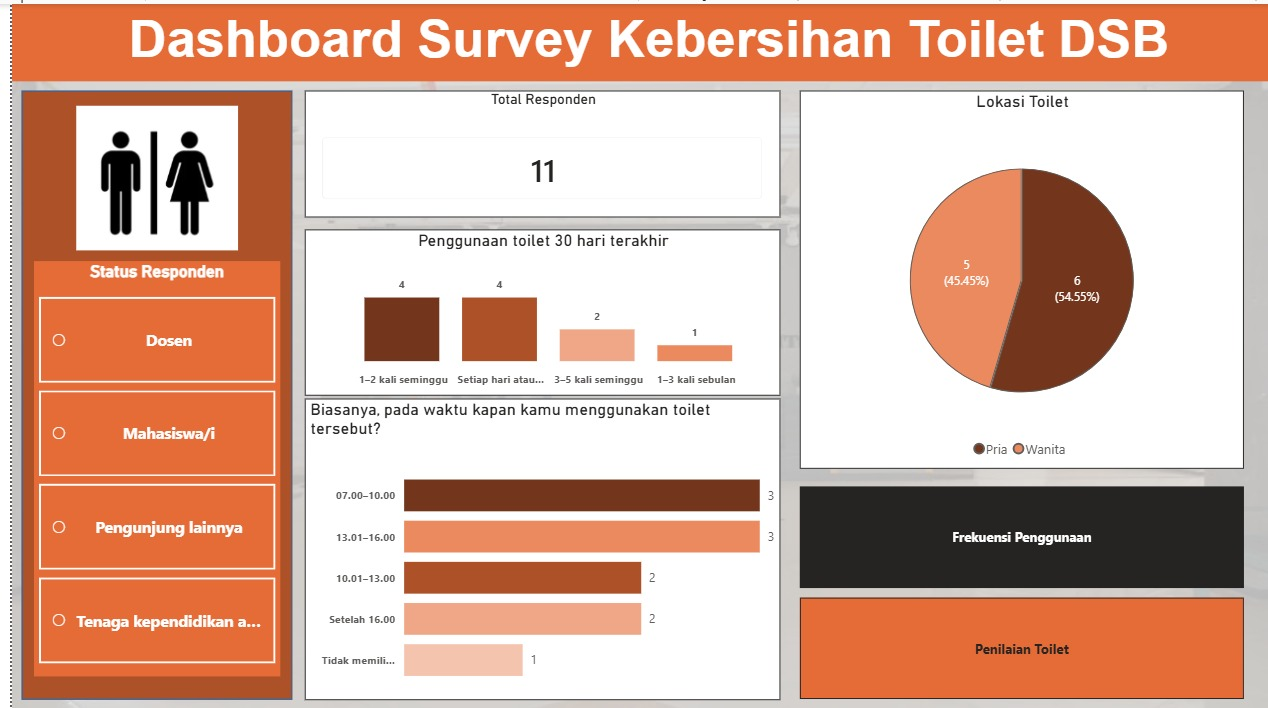

Layout of this report page (visuals, bound fields, positions):
{"tool":"powerbi","page":{"name":"Frekuensi Penggunaan","canvas":[1280,720],"ordinal":0},"visuals":[{"type":"image","box":[0,0,1280.7,720.7],"z":0},{"type":"textbox","box":[0,0,1279.3,78.2],"z":1000},{"type":"cardVisual","title":"Total Responden","fields":{"Data":["CountNonNull(OfficeForms Table.Id)"]},"box":[297.5,88,483.2,128.5],"z":2000},{"type":"barChart","title":" Biasanya, pada waktu kapan kamu menggunakan toilet tersebut?","fields":{"Category":["OfficeForms Table.Biasanya, pada waktu kapan kamu menggunakan toilet tersebut?"],"Y":["CountNonNull(OfficeForms Table.Id)"]},"box":[297.5,400.8,483.2,305.9],"z":3000},{"type":"shape","box":[9.8,88,275.1,618.7],"z":4000},{"type":"advancedSlicerVisual","title":"Status Responden","fields":{"Values":["OfficeForms Table.Apa status kamu di lingkungan Departemen Statistika Bisnis?"]},"box":[21.7,261.7,250,421.7],"z":5000},{"type":"columnChart","title":"Penggunaan toilet 30 hari terakhir","fields":{"Category":["OfficeForms Table.Dalam 30 hari terakhir, seberapa sering kamu menggunakan toilet di area Departemen Statistika Bisnis?"],"Y":["CountNonNull(OfficeForms Table.Total responden)"]},"box":[297.5,229,483.2,169],"z":6000},{"type":"pageNavigator","box":[800.3,490.2,451.1,216.5],"z":7000},{"type":"pieChart","title":"Lokasi Toilet","fields":{"Category":["OfficeForms Table.Di lokasi toilet mana kamu melakukan penilaian?"],"Y":["CountNonNull(OfficeForms Table.Total responden)"]},"box":[800.3,88,451.1,384.1],"z":8000},{"type":"image","box":[21.7,103.3,250,146.7],"z":8001}]}

Visuals, with their boxes in screenshot pixels (x1, y1, x2, y2), scaled from the page's 1280x720 canvas onto the 1268x708 screenshot:
image: <bbox>0, 0, 1267, 707</bbox>
textbox: <bbox>0, 0, 1267, 77</bbox>
"Total Responden" cardVisual: <bbox>295, 87, 773, 213</bbox>
" Biasanya, pada waktu kapan kamu menggunakan toilet tersebut?" barChart: <bbox>295, 394, 773, 695</bbox>
shape: <bbox>10, 87, 282, 695</bbox>
"Status Responden" advancedSlicerVisual: <bbox>21, 257, 269, 672</bbox>
"Penggunaan toilet 30 hari terakhir" columnChart: <bbox>295, 225, 773, 391</bbox>
pageNavigator: <bbox>793, 482, 1240, 695</bbox>
"Lokasi Toilet" pieChart: <bbox>793, 87, 1240, 464</bbox>
image: <bbox>21, 102, 269, 246</bbox>
